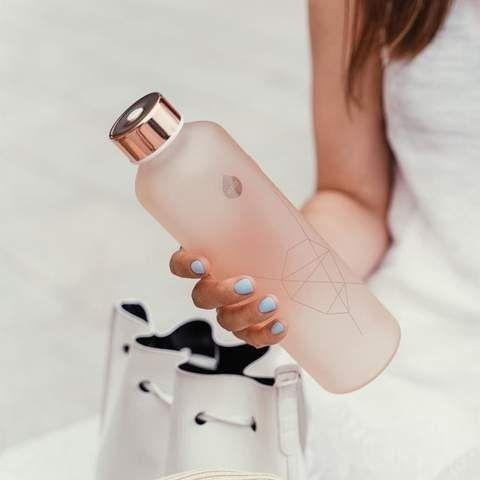gym bottle: (106, 90, 400, 395)
